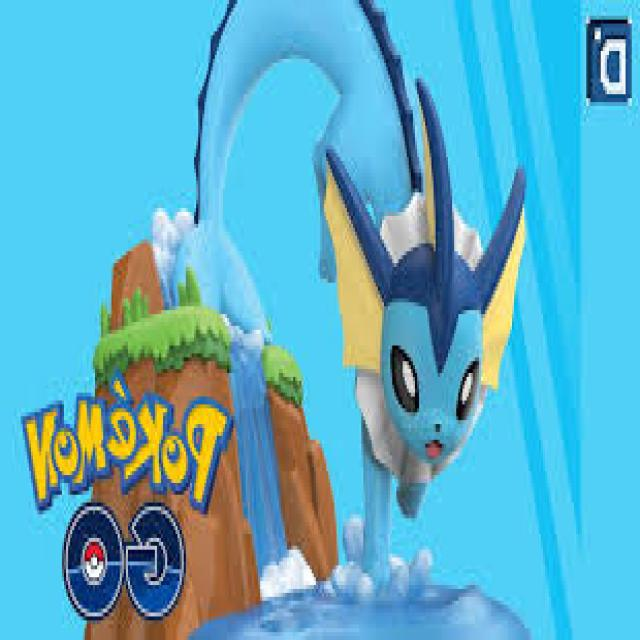Vaporeon: (325, 62, 509, 497)
